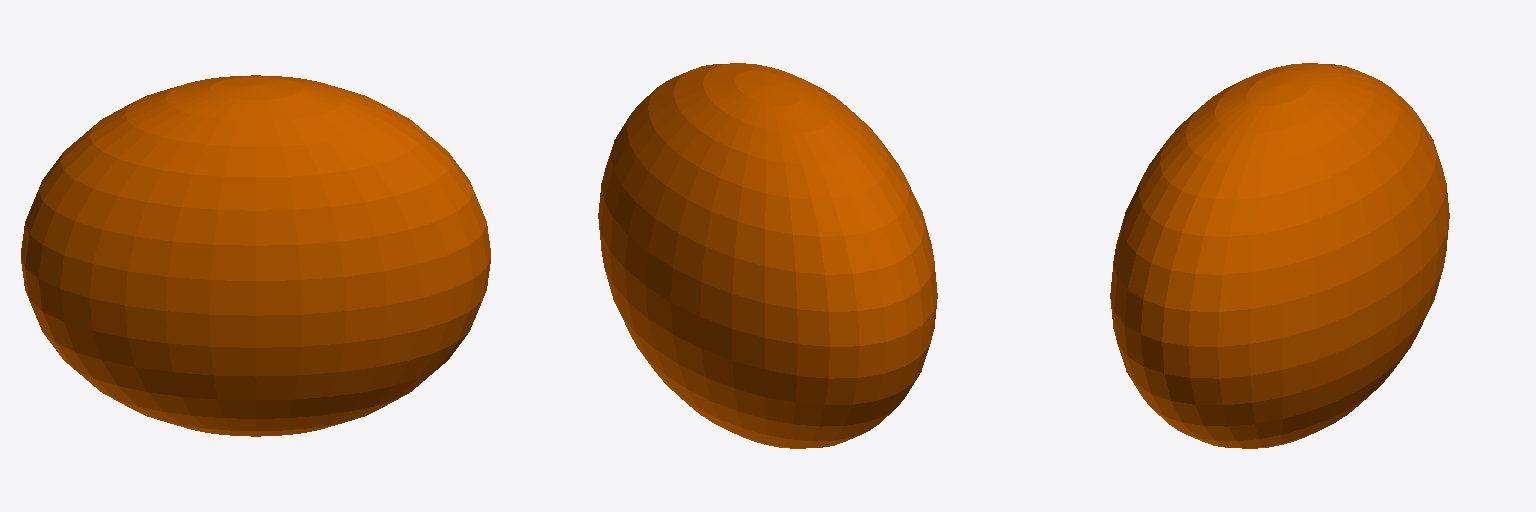
The model's file is moya_TV_o.obj.
3 renders of one model, left to right at view 1: azimuth 30°, elevation 25°; view 2: azimuth 150°, elevation 25°; view 3: azimuth 270°, elevation 25°, orthographic.
Visible parts, largest first — view 1: Sphere_Sphere.002; view 2: Sphere_Sphere.002; view 3: Sphere_Sphere.002.
Boxes of the visible parts, <box> form: Sphere_Sphere.002: <box>21,75,490,436</box>; Sphere_Sphere.002: <box>598,63,937,448</box>; Sphere_Sphere.002: <box>1110,63,1449,448</box>.
Size of the model in its own units: 0.9149 by 0.8 by 0.721.